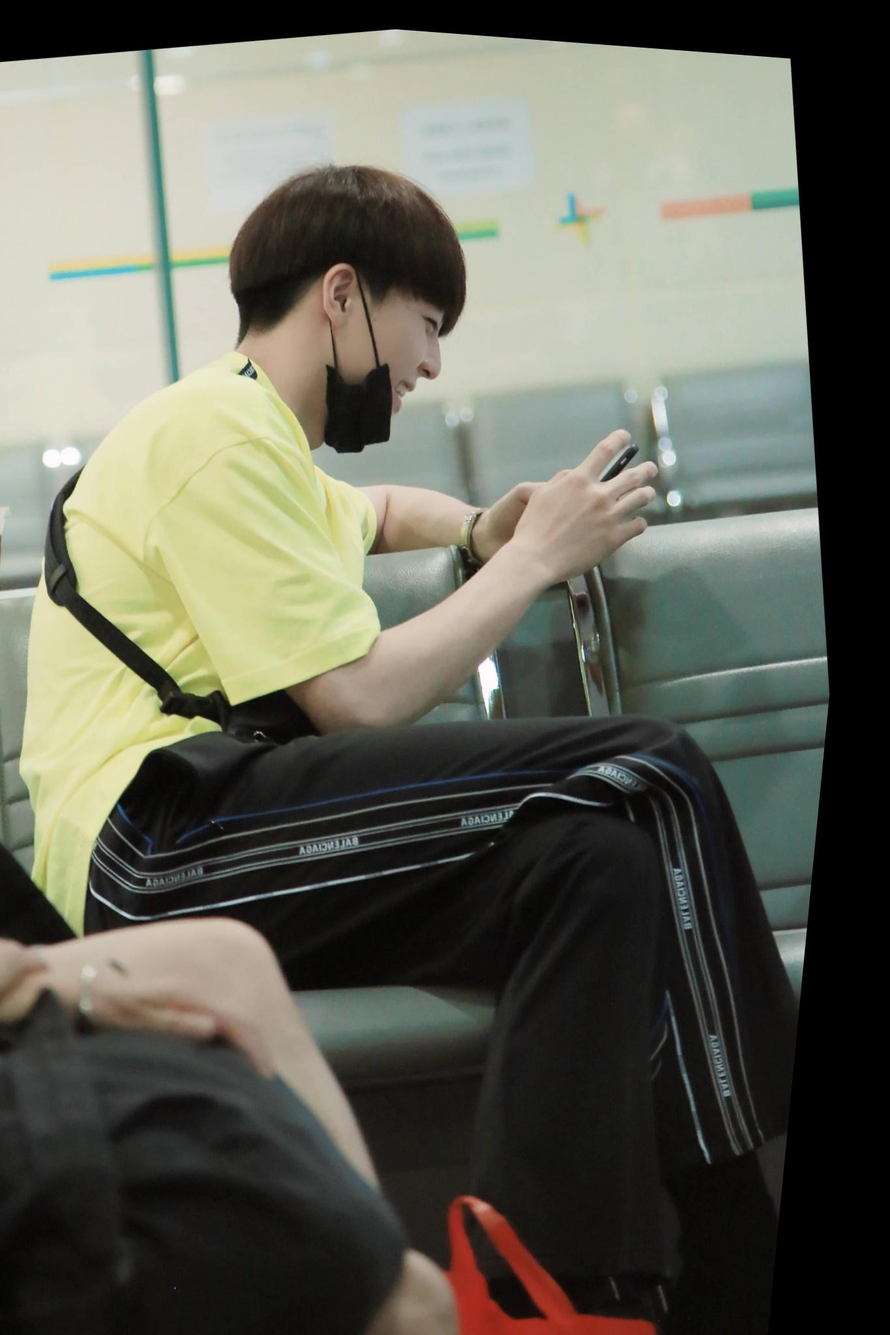WRONG: (325, 281, 477, 453)
